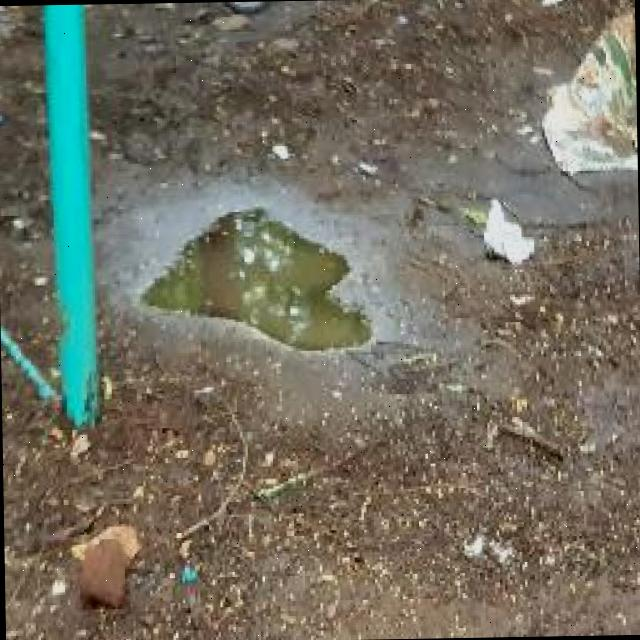stagnation: (120, 183, 411, 387)
